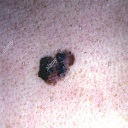Melanoma: (36, 50, 76, 86)
